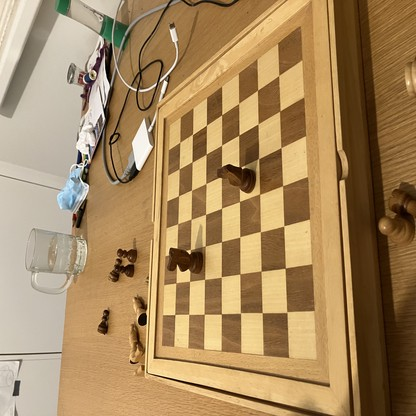bishop_white: (130, 324, 139, 363)
knight_black: (217, 165, 255, 192), (168, 249, 203, 274)
knight_white: (133, 348, 147, 362), (134, 364, 147, 376)
pawn_black: (117, 249, 137, 262), (98, 309, 109, 332), (109, 259, 120, 281), (115, 266, 135, 277)
pawn_white: (379, 215, 415, 244)
queen_white: (133, 295, 149, 325)
